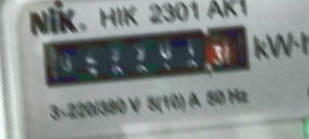0: (155, 36, 172, 62), (55, 50, 72, 73)
1: (182, 34, 196, 58)
2: (80, 43, 97, 66)
3: (208, 43, 225, 67)
9: (131, 40, 145, 64), (106, 41, 120, 63)
screen: (33, 17, 258, 98)
